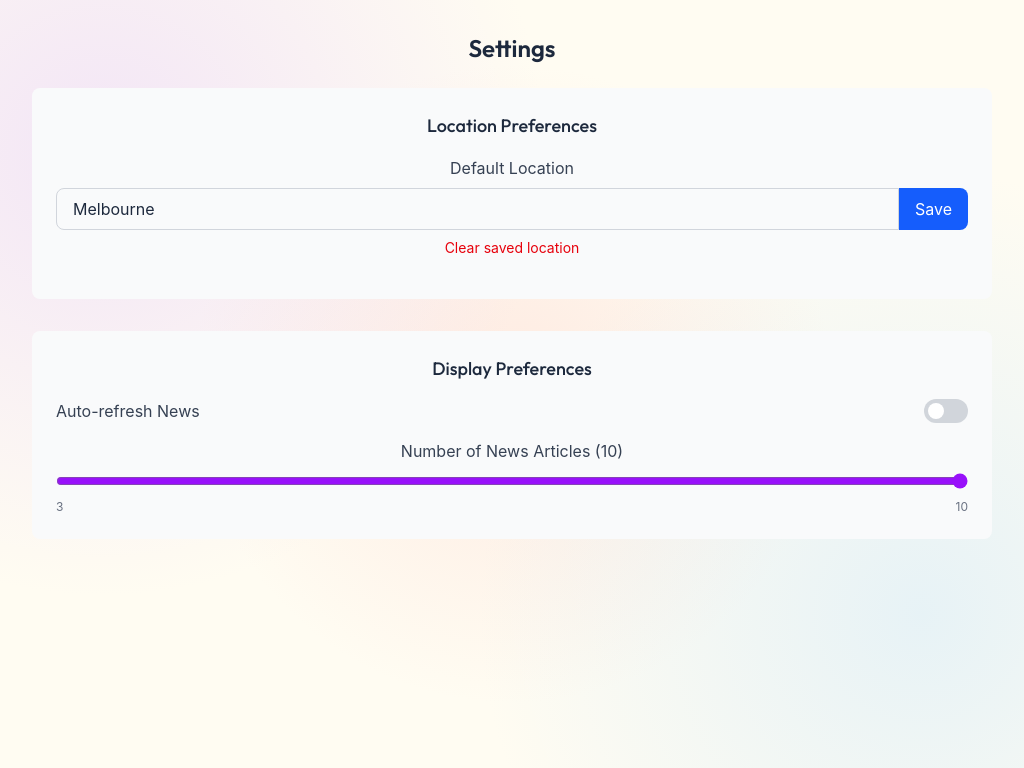
Test: SettingsPage › should save location when save button is clicked
Replace the text in the field with placeholder "Enter your default location" with "Sydney": [478, 209] box [56,188,899,230]
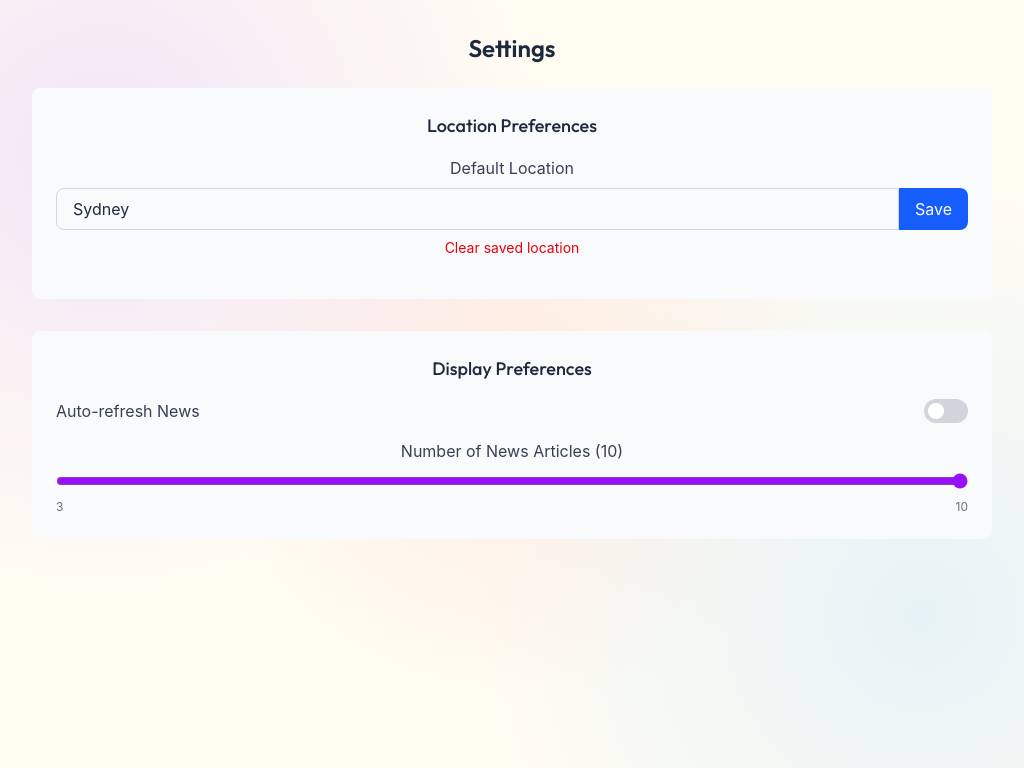
Click the button "Save": [934, 209] box [899,188,968,230]
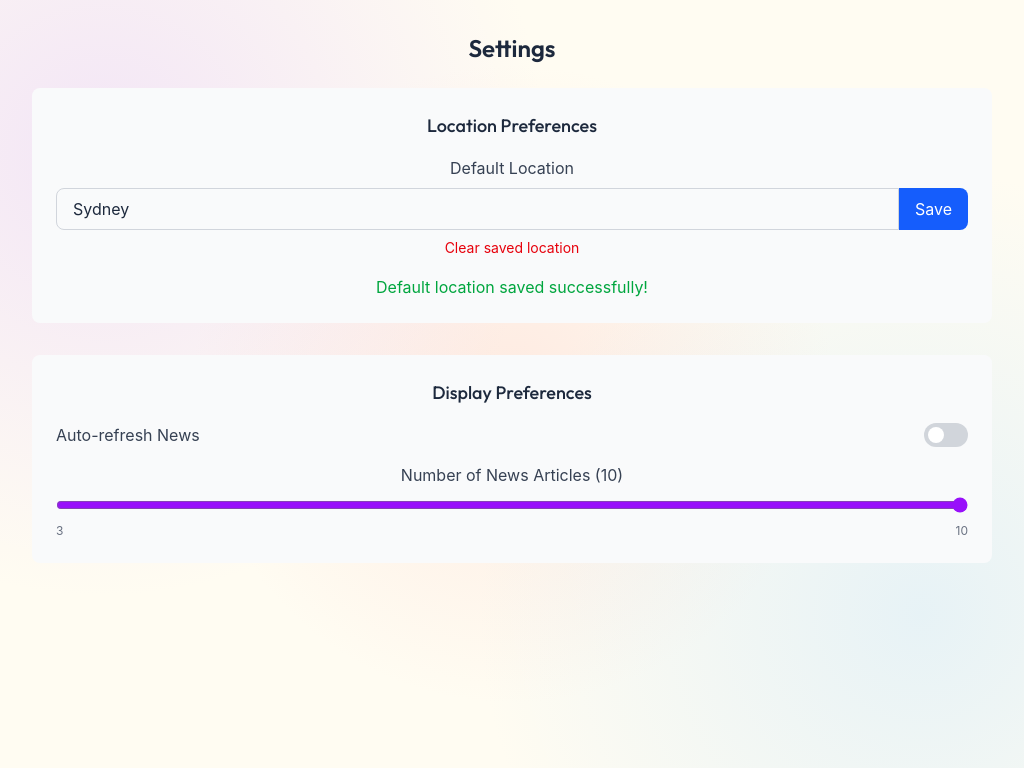
Check: the text "Default location saved successfully!" is shown, box [376,277,648,297]
